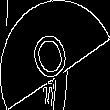O_SE: (31, 22, 79, 88)
